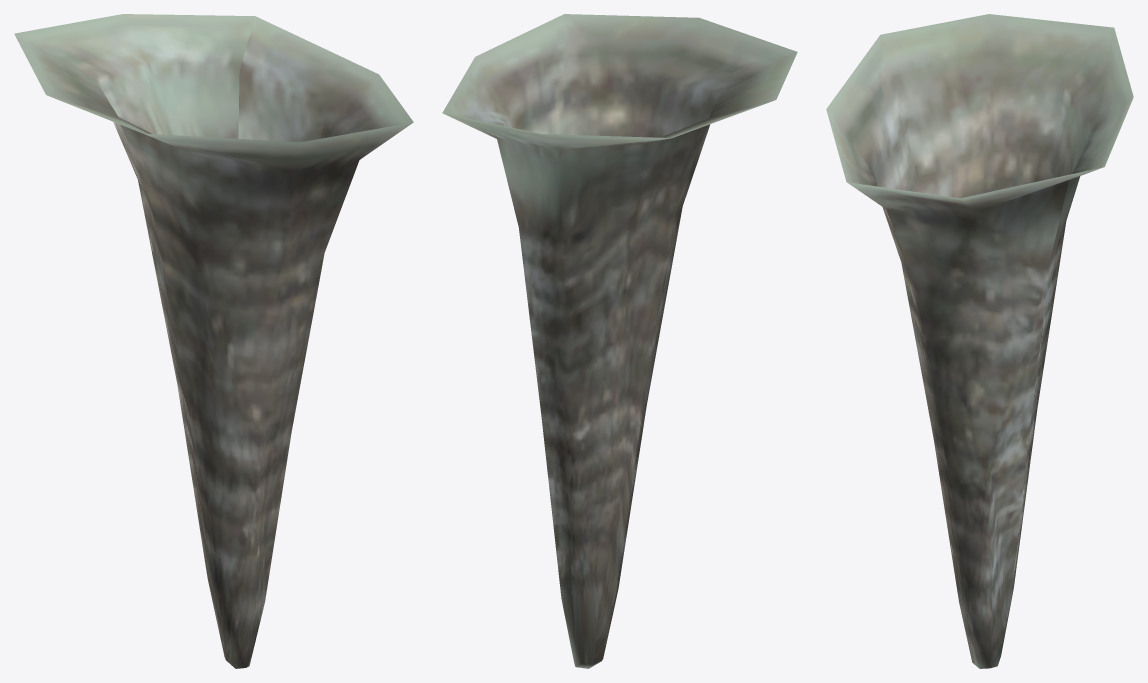
Rendered from TROLLHOLE02_PS-UPPERSTALAG28.fbx.
The picture shows the model from 3 angles, left to right: view 1: azimuth 30°, elevation 25°; view 2: azimuth 150°, elevation 25°; view 3: azimuth 270°, elevation 25°; orthographic projection. The views are drawn at different scales.
Parts seen in each view (by area): view 1: TROLLHOLE02_PS-UPPERSTALAG28; view 2: TROLLHOLE02_PS-UPPERSTALAG28; view 3: TROLLHOLE02_PS-UPPERSTALAG28.
Boxes of the visible parts, box(x1,y1,x2,y2) form: TROLLHOLE02_PS-UPPERSTALAG28: box(14, 14, 413, 668); TROLLHOLE02_PS-UPPERSTALAG28: box(442, 14, 797, 668); TROLLHOLE02_PS-UPPERSTALAG28: box(826, 14, 1133, 668).
Size of the model in its own units: 12592 by 23522 by 11487.
1 material, 1 textured.
